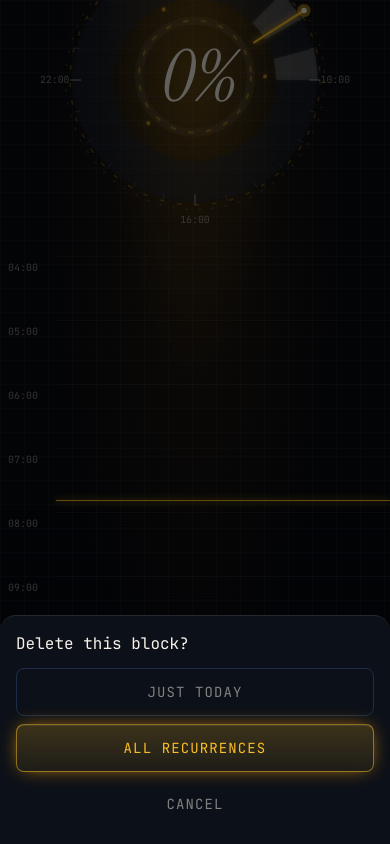
Test: C-m5-015: Just today removes block from today's view › 'Just today' removes blk-recur from timeline; modal closes
Earlier steps of the test are not shown.
(page scrolled)
Click the button "Just today". click: point(195, 692)
box: [16,668,374,716]
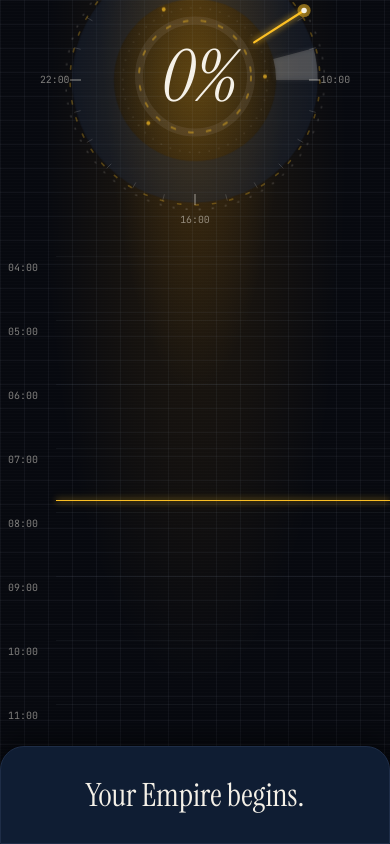
Expected: the dialog is gone
